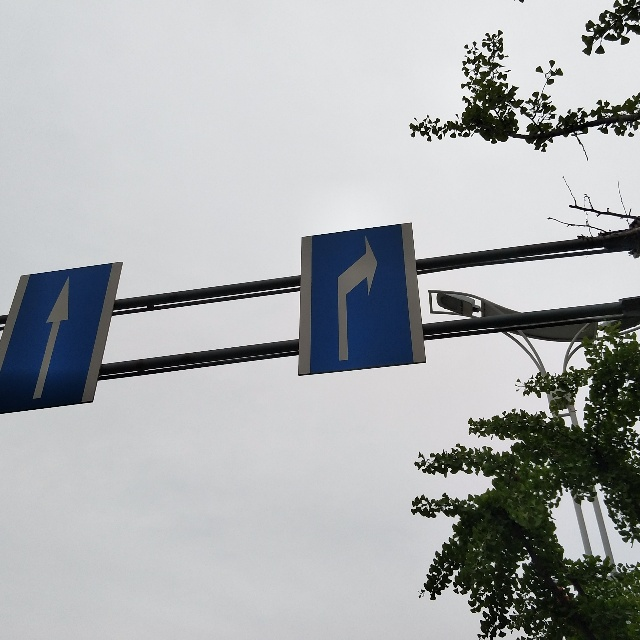right: (312, 234, 402, 371)
straight: (19, 271, 85, 407)
